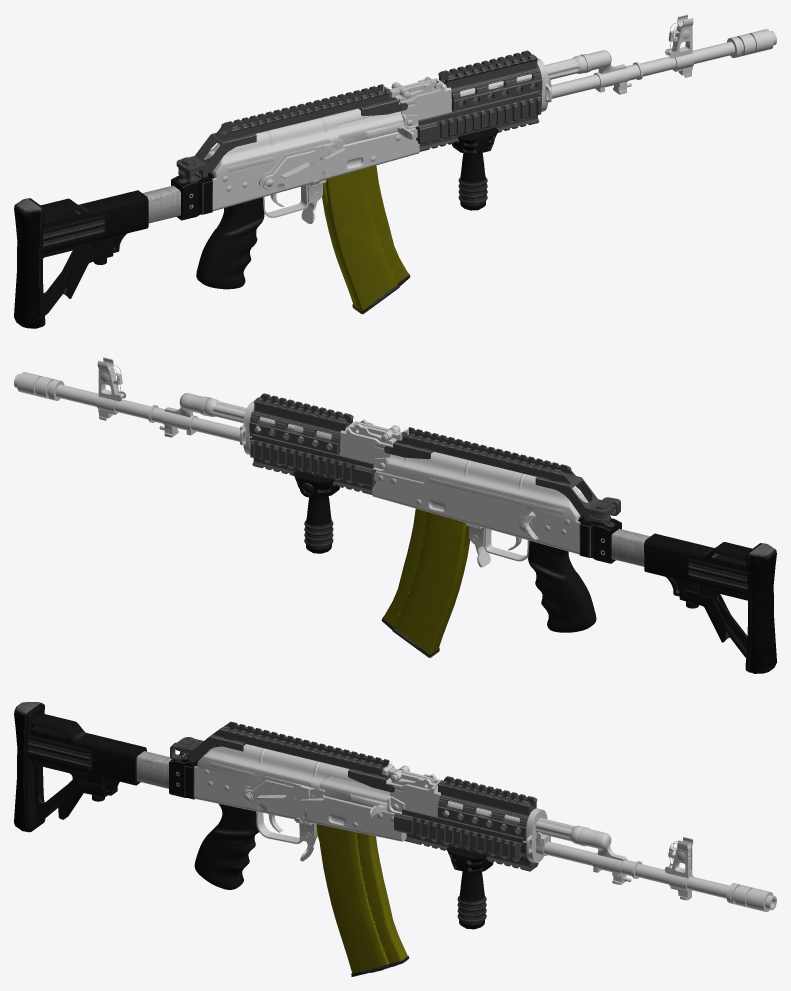
File: gun.fbx
3 views of the same model, one above another, from view 1: azimuth 30°, elevation 25°; view 2: azimuth 150°, elevation 25°; view 3: azimuth 330°, elevation 25° (orthographic).
Parts seen in each view (by area): view 1: Material_007-material, M_furniture-material, Material_006-material, M_transparent-material; view 2: Material_007-material, M_furniture-material, Material_006-material, M_transparent-material; view 3: Material_007-material, M_furniture-material, Material_006-material, M_transparent-material.
Boxes of the visible parts, <box> form: Material_007-material: <box>204,14,776,223</box>; M_furniture-material: <box>14,126,498,328</box>; Material_006-material: <box>176,50,542,182</box>; M_transparent-material: <box>322,165,408,310</box>; Material_007-material: <box>14,357,588,567</box>; M_furniture-material: <box>293,469,776,673</box>; Material_006-material: <box>249,393,620,522</box>; M_transparent-material: <box>383,508,470,654</box>; Material_007-material: <box>194,744,776,911</box>; M_furniture-material: <box>14,702,493,929</box>; Material_006-material: <box>170,721,538,871</box>; M_transparent-material: <box>316,824,407,973</box>.
Bounding box in the file's own units: 95.04 × 26.18 × 7.27.
